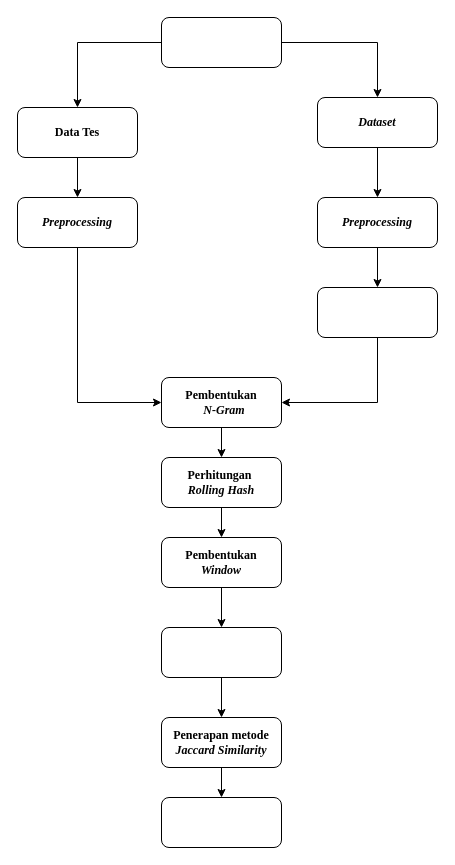
The diagram is 455 pixels wide and 865 high, and some of its shapes have lost their labels. The shapes that lost their labels are listed below. From the top down, each one's centre as x and y in pixels, then its label:
At point (221, 42): "Data Dokumen".
At point (377, 312): "Database".
At point (221, 652): "Pencarian Fingerprint".
At point (221, 822): "Visualisasi Hasil".
